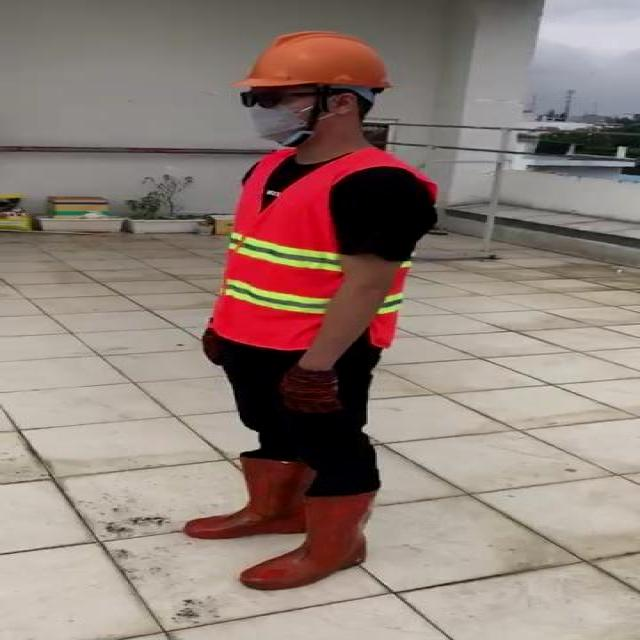boots: (240, 488, 377, 590), (185, 458, 311, 541)
face_mask: (235, 86, 321, 146)
glasses: (229, 82, 306, 114)
hand_glove: (283, 367, 345, 414)
head_helmet: (242, 31, 396, 88)
person: (160, 31, 473, 600)
vest: (211, 146, 441, 349)
